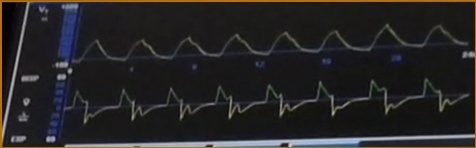Premature_cycling Flow: (68, 75, 470, 130)
Premature_cycling Volume: (74, 20, 467, 61)
